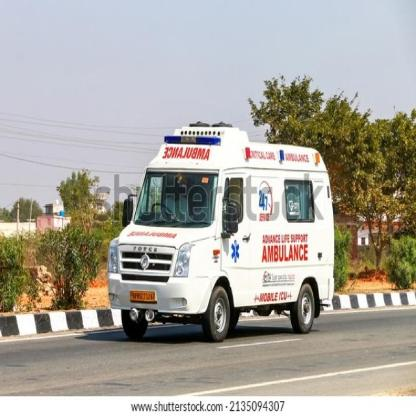priority: (108, 126, 334, 338)
